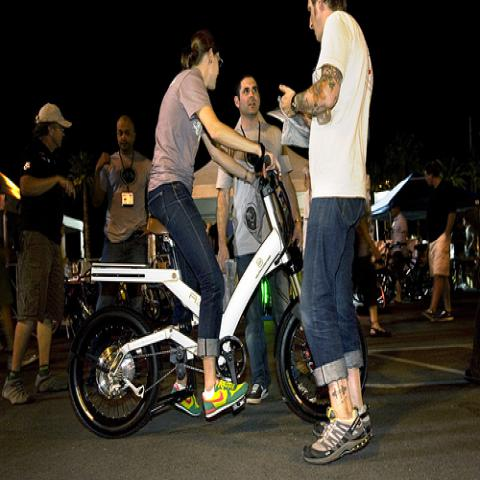motorcycle: (66, 154, 368, 438)
